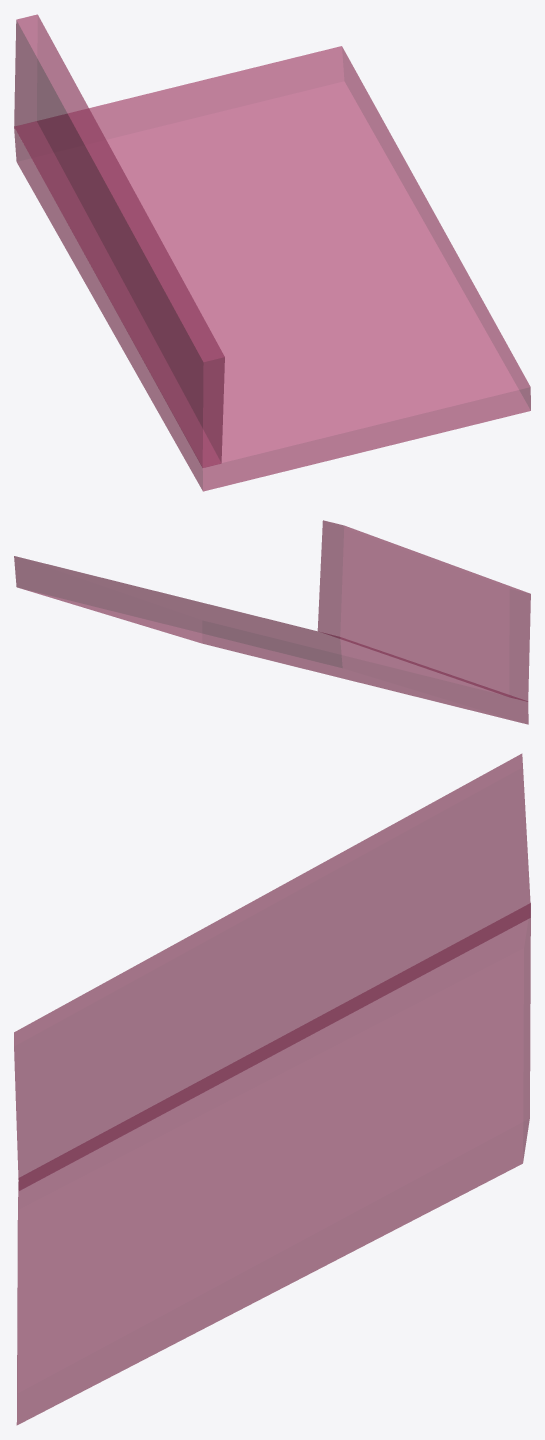
Rendered from SM_Bld_Stairs_interior_01_Collision.fbx.
The picture shows the model from 3 angles, top to bottom: view 1: azimuth 30°, elevation 25°; view 2: azimuth 150°, elevation 25°; view 3: azimuth 270°, elevation 25°; orthographic projection. The views are drawn at different scales.
Parts seen in each view (by area): view 1: SM_Bld_Stairs_interior_01_Collision; view 2: SM_Bld_Stairs_interior_01_Collision; view 3: SM_Bld_Stairs_interior_01_Collision.
Boxes of the visible parts, x1,y1,x2,y2 form: SM_Bld_Stairs_interior_01_Collision: (14,14,530,491); SM_Bld_Stairs_interior_01_Collision: (14,520,530,724); SM_Bld_Stairs_interior_01_Collision: (14,754,530,1424).
Bounding box in the file's own units: 258 × 252 × 259.
